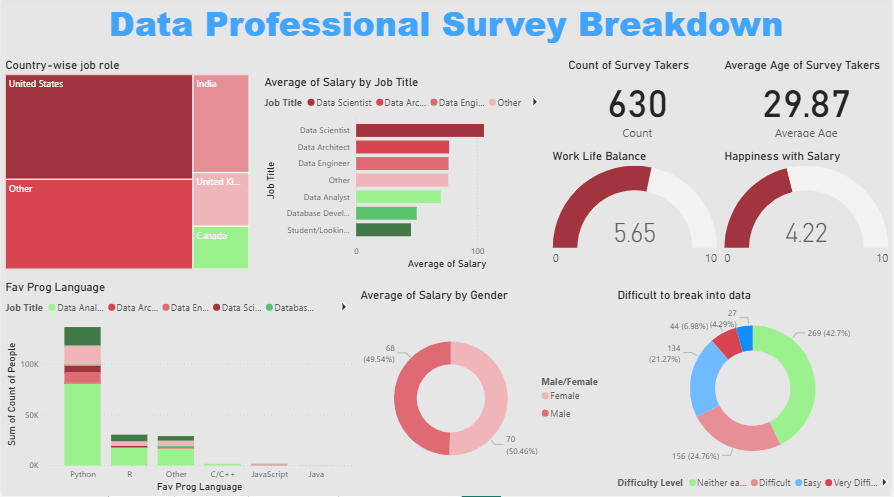

What the dashboard file says about the page in this screenshot:
{"tool":"powerbi","page":{"name":"Q11 Dashboard","canvas":[1280,720],"ordinal":3},"visuals":[{"type":"textbox","box":[0,0,1279.4,89.1],"z":0},{"type":"treemap","title":"Country-wise job role","fields":{"Group":["Data Professional Survey.Country.1"],"Values":["CountNonNull(Data Professional Survey.Job Title.1)"]},"box":[0,89.1,360.7,309],"z":1000},{"type":"barChart","title":"Average of Salary by Job Title","fields":{"Category":["Data Professional Survey.Job Title"],"Y":["Avg(Data Professional Survey.Salary)"],"Series":["Data Professional Survey.Job Title"]},"box":[373.7,113.5,413.9,284.6],"z":2000},{"type":"card","title":"Count of Survey Takers","fields":{"Values":["Data Professional Survey.Count"]},"box":[810.5,89.1,208.4,119.3],"z":3000},{"type":"card","title":"Average Age of Survey Takers","fields":{"Values":["Data Professional Survey.Average Age"]},"box":[1034.7,89.1,245.7,119.3],"z":4000},{"type":"gauge","title":"Work Life Balance","fields":{"MinValue":["Min(Data Professional Survey.Work Life Balance)"],"MaxValue":["Max(Data Professional Survey.Work Life Balance)1"],"Y":["Avg(Data Professional Survey.Work Life Balance)2"]},"box":[787.5,219.9,247.2,178.2],"z":5000},{"type":"gauge","title":"Happiness with Salary","fields":{"Y":["Avg(Data Professional Survey.Happiness with Salary)"],"MinValue":["Min(Data Professional Survey.Happiness with Salary)1"],"MaxValue":["Max(Data Professional Survey.Happiness with Salary)2"]},"box":[1034.7,219.9,245.7,178.2],"z":6000},{"type":"columnChart","title":"Fav Prog Language","fields":{"Category":["Data Professional Survey.Fav Prog Language"],"Y":["Sum(Data Professional Survey.Count of People)"],"Series":["Data Professional Survey.Job Title"]},"box":[0,409.6,511.6,310.4],"z":7000},{"type":"donutChart","title":"Average of Salary by Gender","fields":{"Category":["Data Professional Survey.Male/Female"],"Y":["Avg(Data Professional Survey.Salary)"]},"box":[511.6,421.1,369.3,298.9],"z":8000},{"type":"donutChart","title":"Difficult to break into data","fields":{"Category":["Data Professional Survey.Difficult to break into Data"],"Y":["CountNonNull(Data Professional Survey.Difficult to break into Data)"]},"box":[881,421.1,399.5,298.9],"z":9000}]}

Visuals, with their boxes in screenshot pixels (x1, y1, x2, y2), scaled from the page's 1280x720 canvas onto the 894x497 screenshot:
textbox: <box>0,0,893,62</box>
"Country-wise job role" treemap: <box>0,62,252,275</box>
"Average of Salary by Job Title" barChart: <box>261,78,550,275</box>
"Count of Survey Takers" card: <box>566,62,712,144</box>
"Average Age of Survey Takers" card: <box>723,62,893,144</box>
"Work Life Balance" gauge: <box>550,152,723,275</box>
"Happiness with Salary" gauge: <box>723,152,893,275</box>
"Fav Prog Language" columnChart: <box>0,283,357,496</box>
"Average of Salary by Gender" donutChart: <box>357,291,615,496</box>
"Difficult to break into data" donutChart: <box>615,291,893,496</box>
